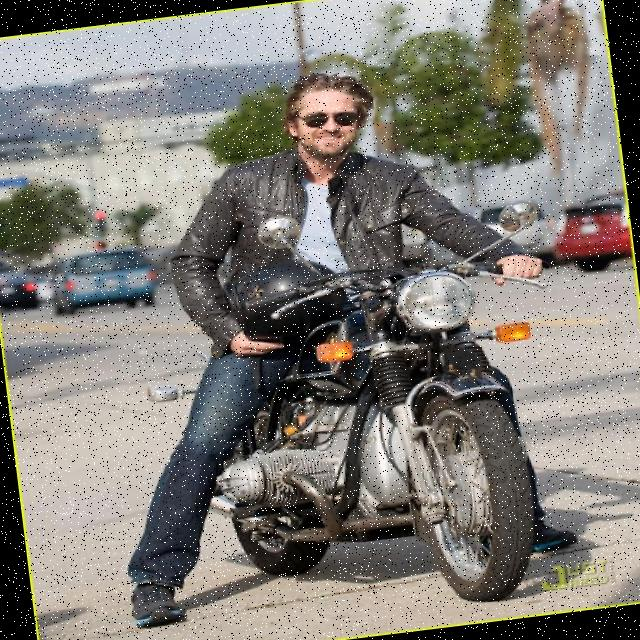No helmet: (278, 69, 389, 198)
